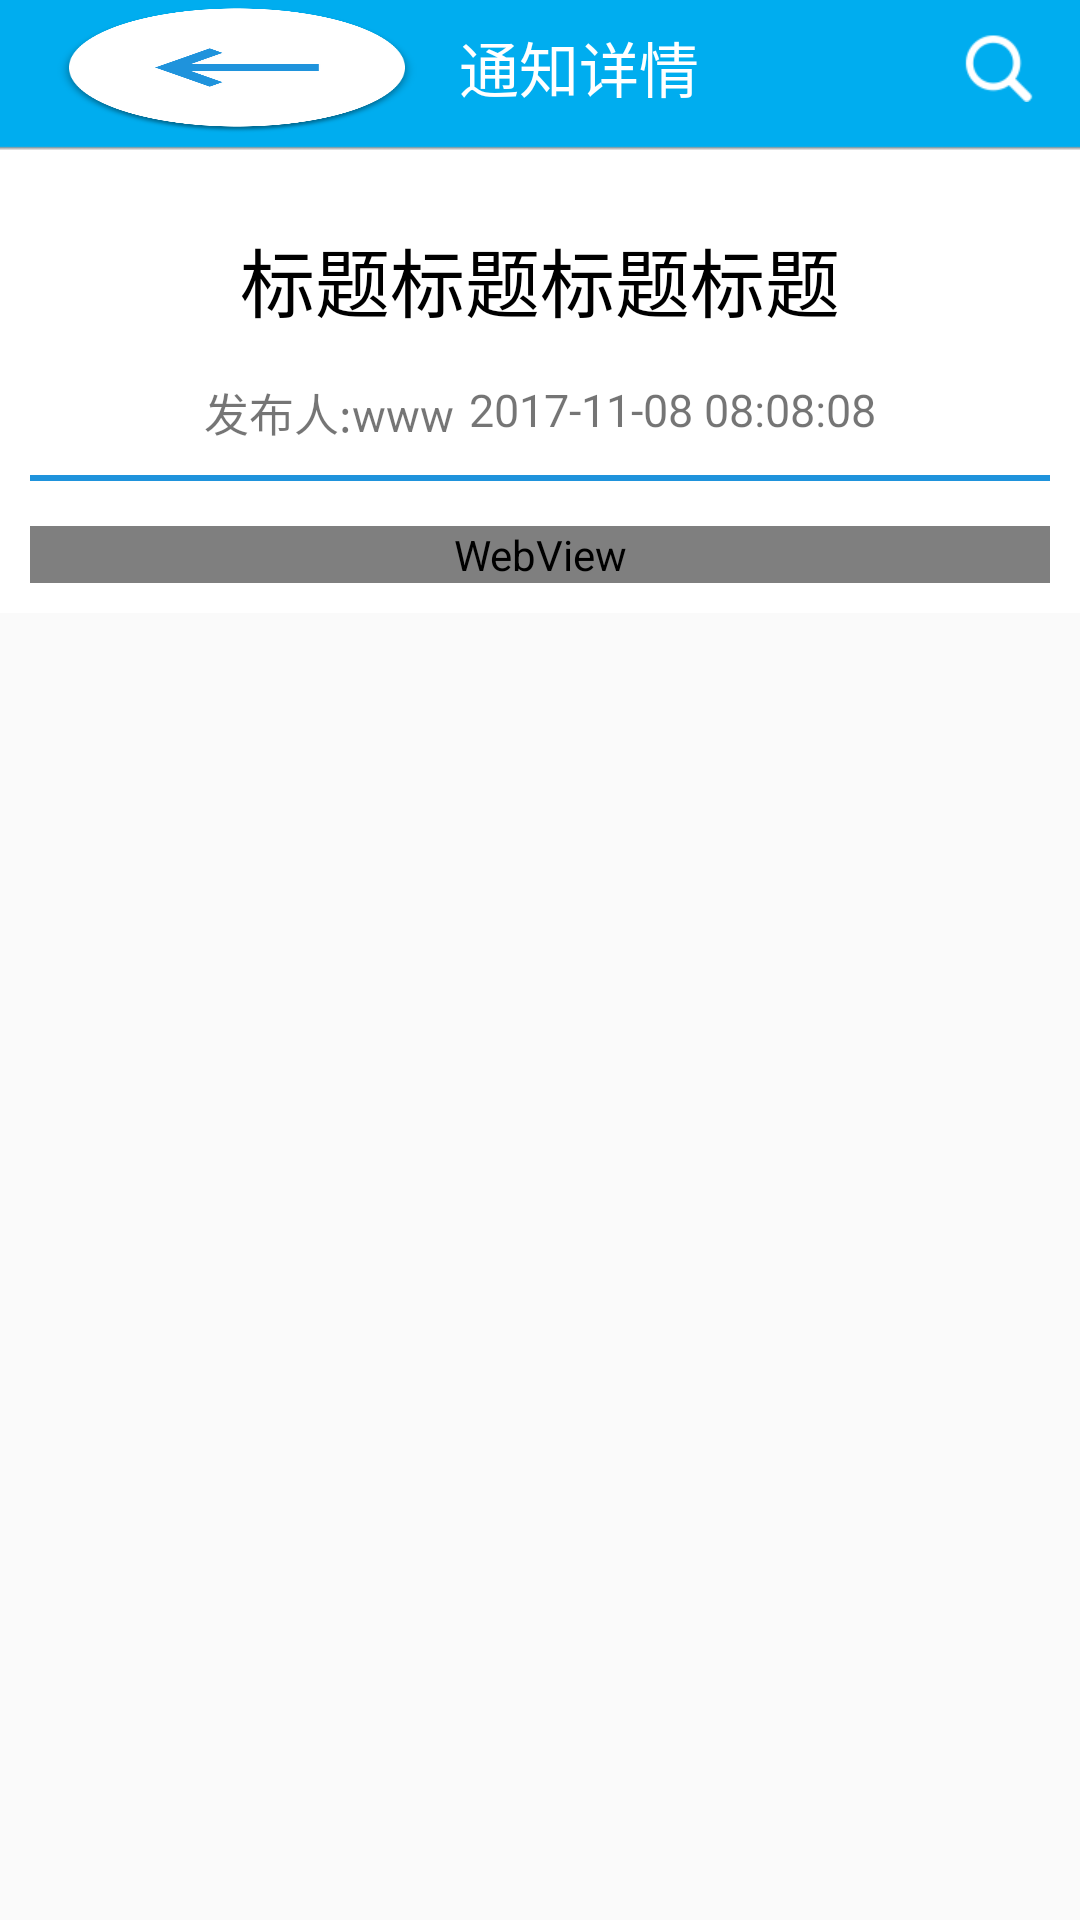

Named icons in this screenshot (1080 x 1920) and their bounding boxes, (x1, y1, x2, y2):
back: (66, 8, 408, 131)
search: (965, 35, 1033, 102)
